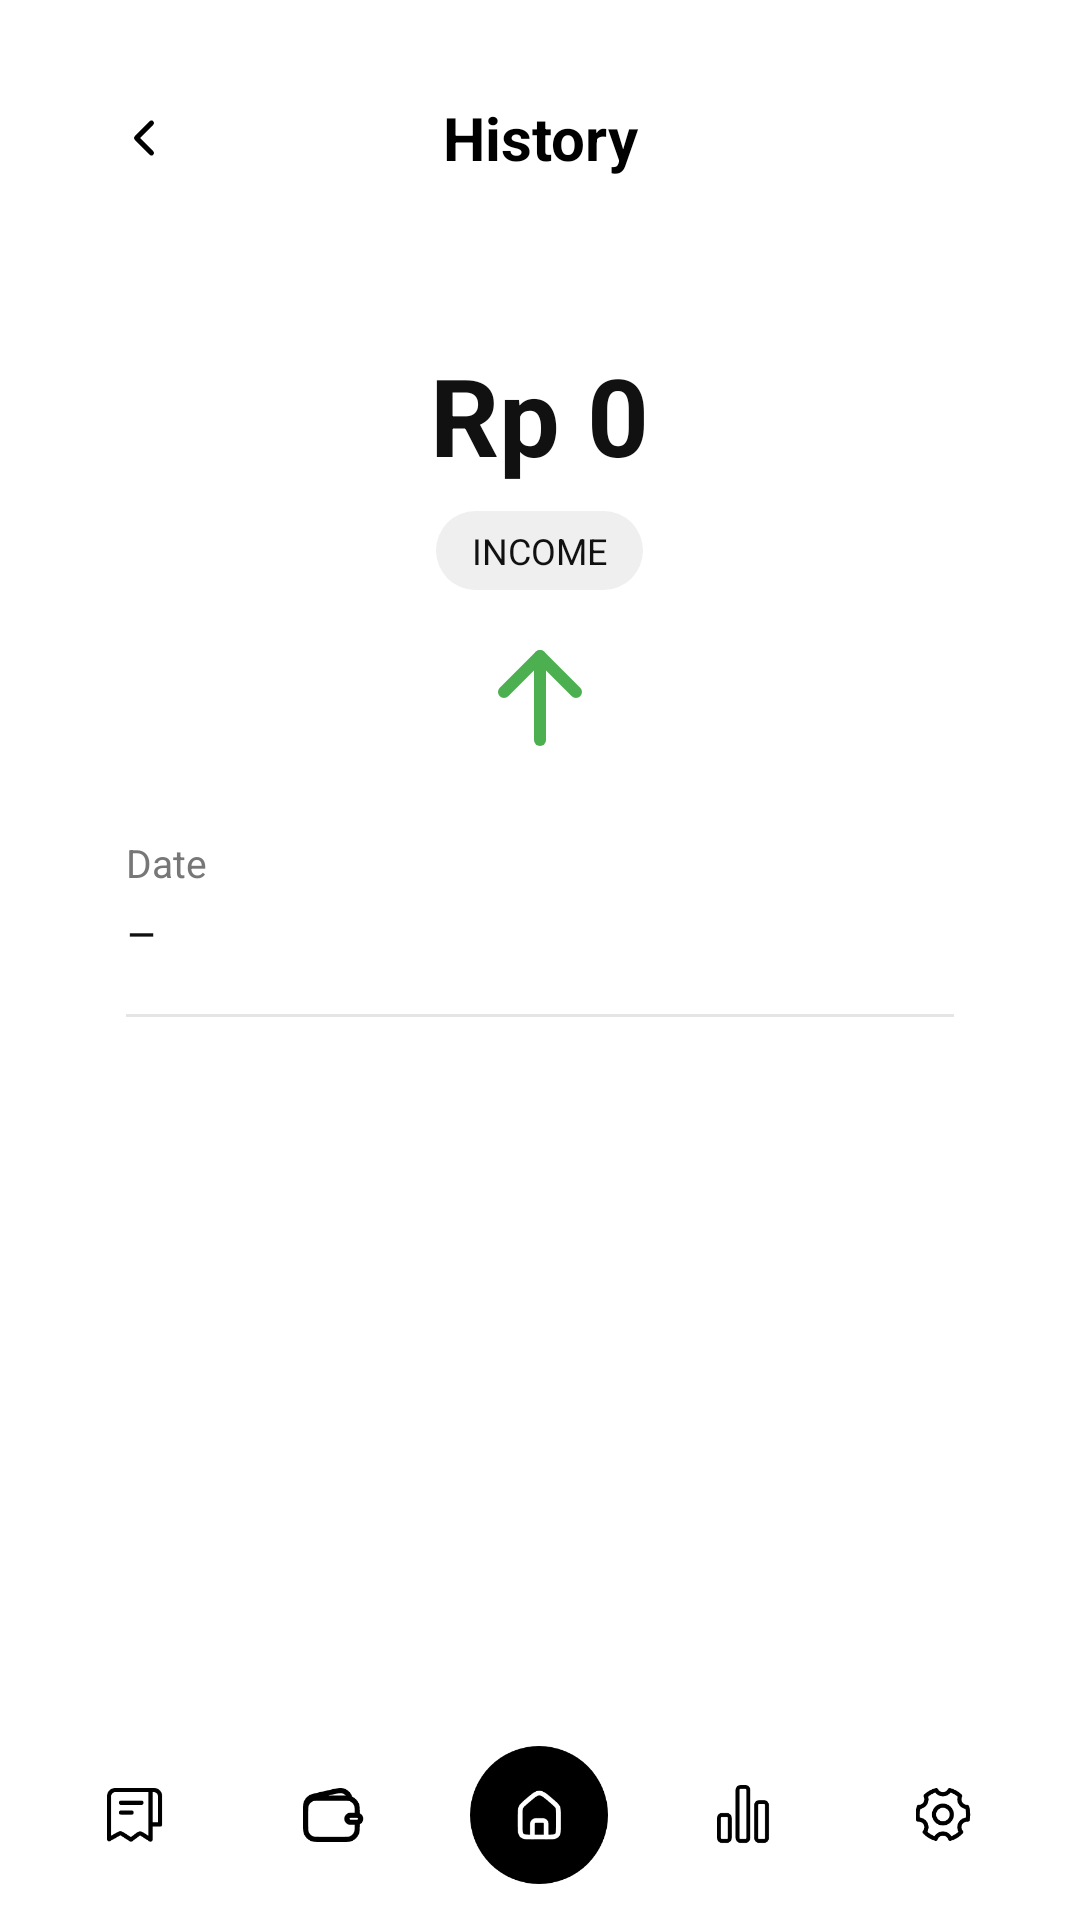

Icons on this 1080 x 1920 Android screen, each with its box as [left=x1, top=y1, right=x2, bottom=y2]:
back: [left=134, top=120, right=154, bottom=156]
bill: [left=107, top=1788, right=162, bottom=1842]
setting: [left=916, top=1788, right=971, bottom=1841]
stats: [left=717, top=1785, right=769, bottom=1843]
wallet: [left=303, top=1788, right=364, bottom=1842]
